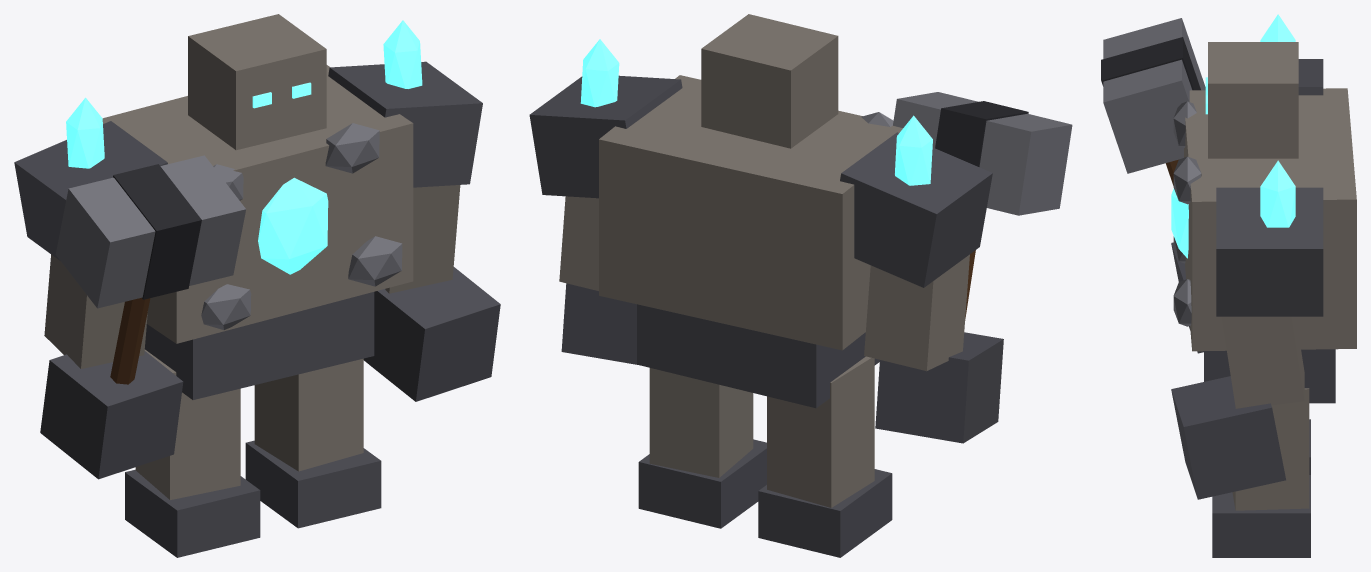
The model's file is Boss_Golem.fbx.
The picture shows the model from 3 angles, left to right: view 1: azimuth 30°, elevation 25°; view 2: azimuth 150°, elevation 25°; view 3: azimuth 270°, elevation 25°; orthographic projection. The views are drawn at different scales.
Visible parts, largest first — view 1: Boss_Body, Boss_Weapon; view 2: Boss_Body, Boss_Weapon; view 3: Boss_Body, Boss_Weapon.
Boxes of the visible parts, <box> form: Boss_Body: <box>14,14,500,557</box>; Boss_Weapon: <box>55,155,246,384</box>; Boss_Body: <box>529,14,1003,557</box>; Boss_Weapon: <box>893,92,1072,320</box>; Boss_Body: <box>1171,14,1356,557</box>; Boss_Weapon: <box>1101,18,1205,185</box>.
Size of the model in its own units: 2.87 by 3 by 1.55.
